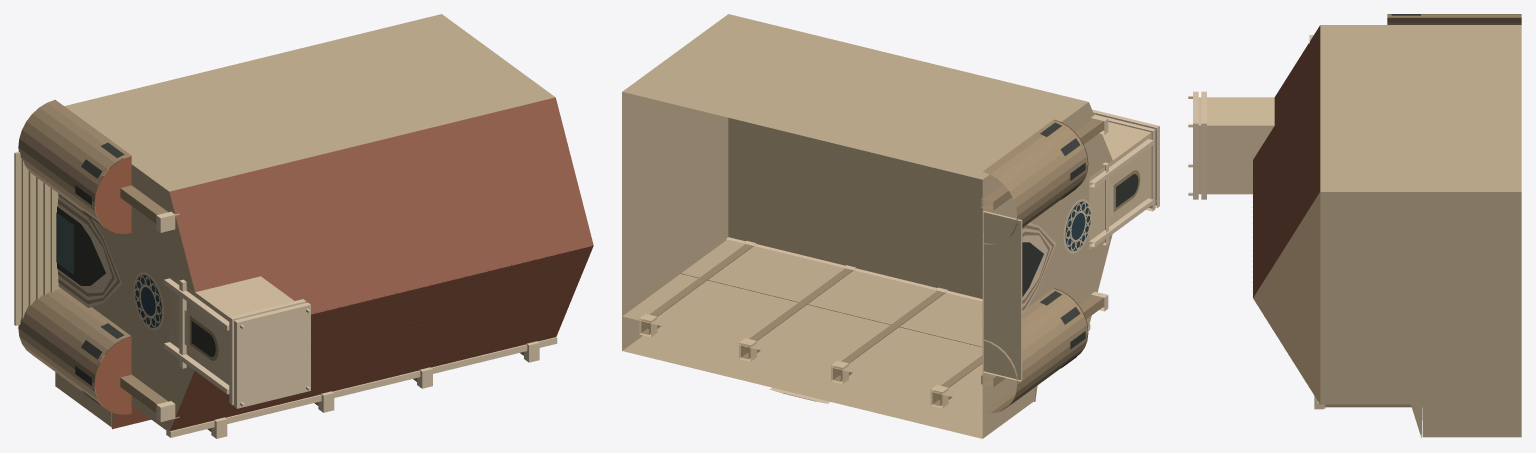
The model's file is catedral.obj.
3 renders of one model, left to right at view 1: azimuth 30°, elevation 25°; view 2: azimuth 150°, elevation 25°; view 3: azimuth 270°, elevation 25°, orthographic. The views are drawn at different scales.
Bounding box in the file's own units: 52 × 33.84 × 39.7.
